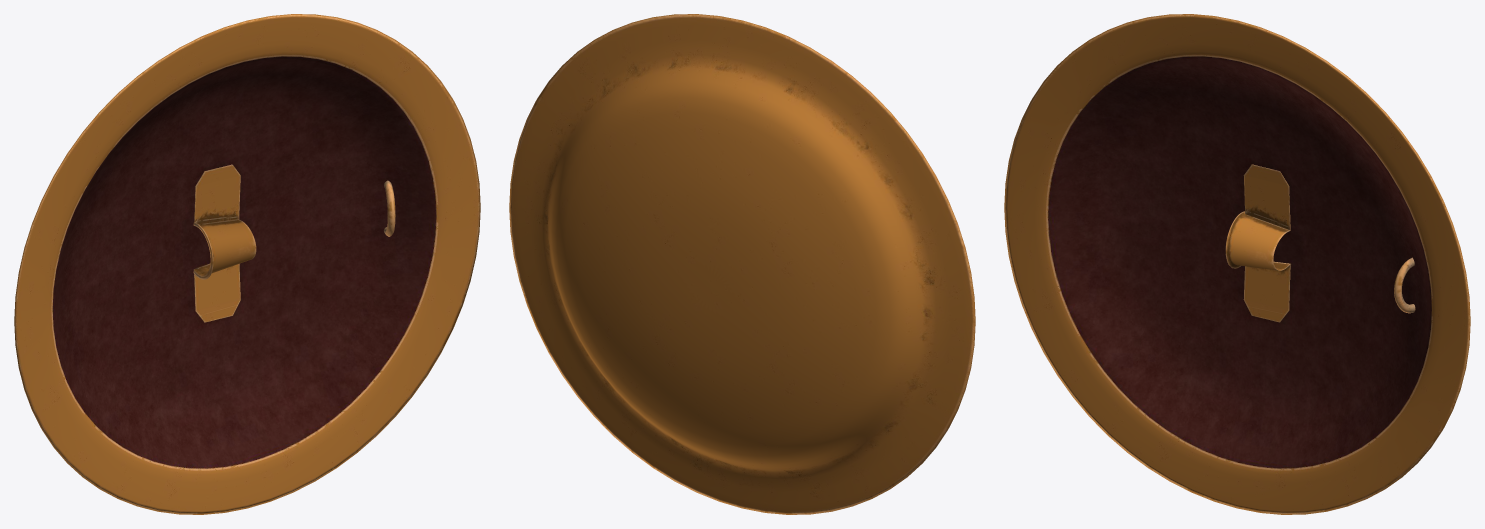
File: scudo_oplita_bronzo.glb
3 views of the same model, side by side, from view 1: azimuth 30°, elevation 25°; view 2: azimuth 150°, elevation 25°; view 3: azimuth 330°, elevation 25° (orthographic).
Parts seen in each view (by area): view 1: SM_scudo_oplita; view 2: SM_scudo_oplita; view 3: SM_scudo_oplita.
Part boxes in pixels (x1=…): SM_scudo_oplita: x1=14, y1=14, x2=480, y2=514; SM_scudo_oplita: x1=509, y1=14, x2=975, y2=514; SM_scudo_oplita: x1=1004, y1=14, x2=1470, y2=514.
Bounding box in the file's own units: 1.02 × 1.02 × 0.1227.
1 material, 1 textured.
